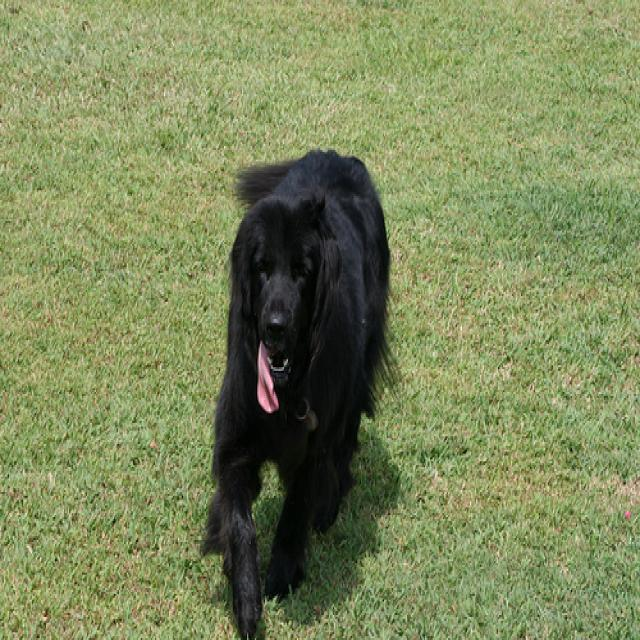dog-newfoundland: (193, 138, 404, 636)
